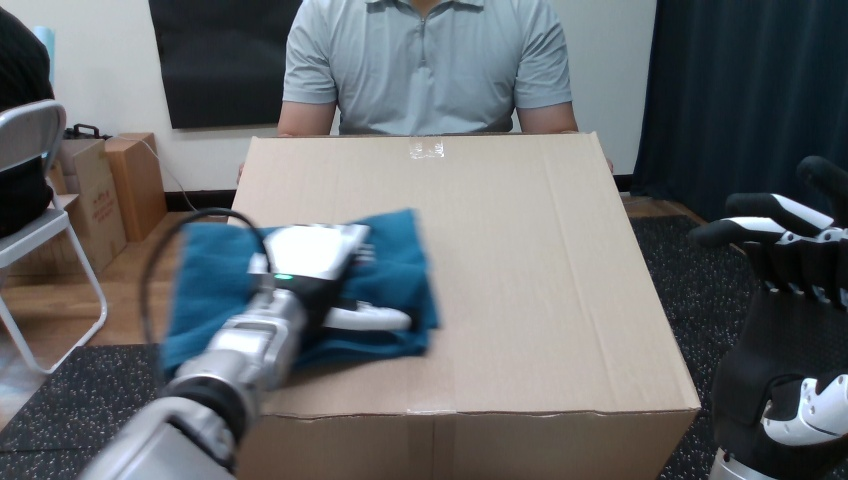left robot hand: (80, 224, 410, 479), (690, 156, 847, 478)
